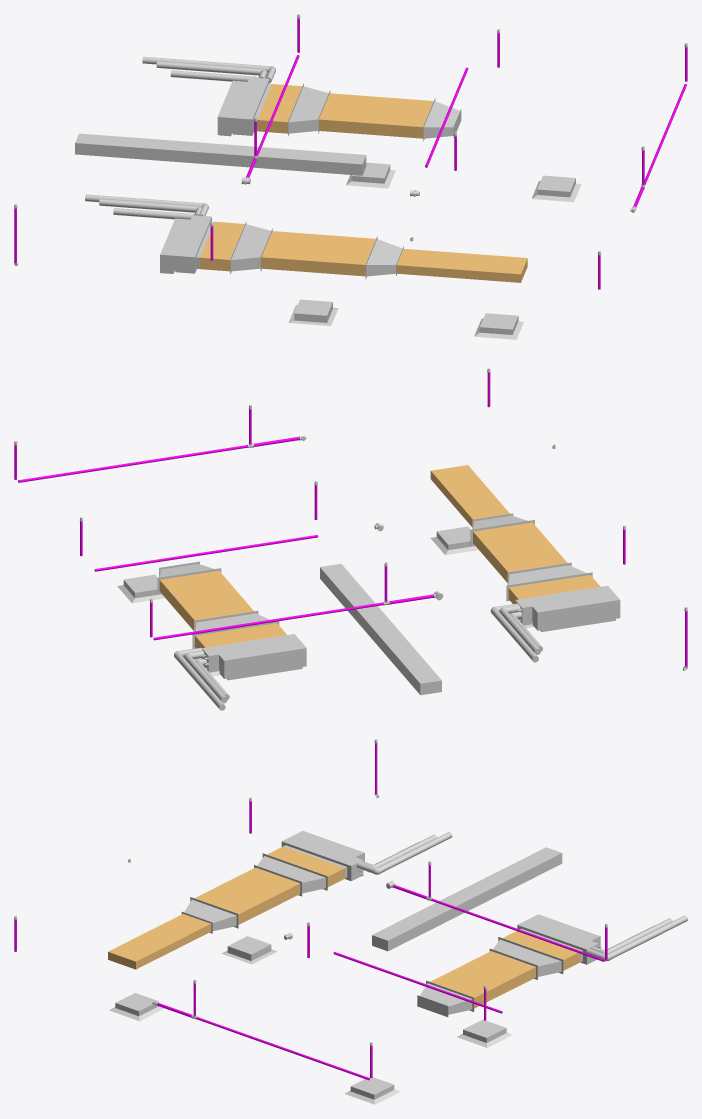
The picture shows the model from 3 angles, top to bottom: view 1: azimuth 30°, elevation 25°; view 2: azimuth 150°, elevation 25°; view 3: azimuth 270°, elevation 25°; orthographic projection. The views are drawn at different scales.
Visible parts, largest first — view 1: 风管隔热层:纤维玻璃:3140463[1GeACjUHjBGAb1Ze1absFD], 矩形风管:AC-矩形-送风:3141295[1GeACjUHjBGAb1Ze1absOD], 矩形风管:AC-矩形-送风:3141283[1GeACjUHjBGAb1Ze1absO1], 矩形风管:AC-矩形-送风:3141285[1GeACjUHjBGAb1Ze1absO7], 变频式多联式空调室内机1:FP-08 2:3141281[1GeACjUHjBGAb1Ze1absO3], 变频式多联式空调室内机1:FP-08 2:3141293[1GeACjUHjBGAb1Ze1absOF], 矩形风管:AC-矩形-送风:3141282[1GeACjUHjBGAb1Ze1absO0], 矩形风管:AC-矩形-送风:3141294[1GeACjUHjBGAb1Ze1absOC], AC_矩形变径管 - 角度 - 法兰:45 度:3141284[1GeACjUHjBGAb1Ze1absO6], AC_矩形变径管 - 角度 - 法兰:45 度:3141296[1GeACjUHjBGAb1Ze1absOI], AC_矩形变径管 - 角度 - 法兰:45 度:3141299[1GeACjUHjBGAb1Ze1absOH], AC_矩形变径管 - 角度 - 法兰:45 度:3141287[1GeACjUHjBGAb1Ze1absO5] (+10 smaller); view 2: 风管隔热层:纤维玻璃:3140463[1GeACjUHjBGAb1Ze1absFD], 变频式多联式空调室内机1:FP-08 2:3141293[1GeACjUHjBGAb1Ze1absOF], 变频式多联式空调室内机1:FP-08 2:3141281[1GeACjUHjBGAb1Ze1absO3], 矩形风管:AC-矩形-送风:3141295[1GeACjUHjBGAb1Ze1absOD], 矩形风管:AC-矩形-送风:3141283[1GeACjUHjBGAb1Ze1absO1], 矩形风管:AC-矩形-送风:3141285[1GeACjUHjBGAb1Ze1absO7], 矩形风管:AC-矩形-送风:3141282[1GeACjUHjBGAb1Ze1absO0], 矩形风管:AC-矩形-送风:3141294[1GeACjUHjBGAb1Ze1absOC], AC_矩形变径管 - 角度 - 法兰:45 度:3141284[1GeACjUHjBGAb1Ze1absO6], AC_矩形变径管 - 角度 - 法兰:45 度:3141296[1GeACjUHjBGAb1Ze1absOI], 散流器-方形1:750:3141286[1GeACjUHjBGAb1Ze1absO4], 散流器-方形1:750:3141298[1GeACjUHjBGAb1Ze1absOG] (+6 smaller); view 3: 风管隔热层:纤维玻璃:3140463[1GeACjUHjBGAb1Ze1absFD], 矩形风管:AC-矩形-送风:3141283[1GeACjUHjBGAb1Ze1absO1], 矩形风管:AC-矩形-送风:3141295[1GeACjUHjBGAb1Ze1absOD], 矩形风管:AC-矩形-送风:3141285[1GeACjUHjBGAb1Ze1absO7], 变频式多联式空调室内机1:FP-08 2:3141281[1GeACjUHjBGAb1Ze1absO3], 变频式多联式空调室内机1:FP-08 2:3141293[1GeACjUHjBGAb1Ze1absOF], AC_矩形变径管 - 角度 - 法兰:45 度:3141284[1GeACjUHjBGAb1Ze1absO6], AC_矩形变径管 - 角度 - 法兰:45 度:3141296[1GeACjUHjBGAb1Ze1absOI], AC_矩形变径管 - 角度 - 法兰:45 度:3141299[1GeACjUHjBGAb1Ze1absOH], 矩形风管:AC-矩形-送风:3141282[1GeACjUHjBGAb1Ze1absO0], AC_矩形变径管 - 角度 - 法兰:45 度:3141287[1GeACjUHjBGAb1Ze1absO5], 矩形风管:AC-矩形-送风:3141294[1GeACjUHjBGAb1Ze1absOC] (+8 smaller).
Part boxes in pixels (box(x1,y1,x2,y2)): 风管隔热层:纤维玻璃:3140463[1GeACjUHjBGAb1Ze1absFD]: box(75, 133, 366, 175); 矩形风管:AC-矩形-送风:3141295[1GeACjUHjBGAb1Ze1absOD]: box(319, 93, 433, 138); 矩形风管:AC-矩形-送风:3141283[1GeACjUHjBGAb1Ze1absO1]: box(261, 231, 375, 276); 矩形风管:AC-矩形-送风:3141285[1GeACjUHjBGAb1Ze1absO7]: box(396, 249, 527, 282); 变频式多联式空调室内机1:FP-08 2:3141281[1GeACjUHjBGAb1Ze1absO3]: box(160, 215, 214, 273); 变频式多联式空调室内机1:FP-08 2:3141293[1GeACjUHjBGAb1Ze1absOF]: box(217, 77, 271, 136); 矩形风管:AC-矩形-送风:3141282[1GeACjUHjBGAb1Ze1absO0]: box(200, 221, 244, 271); 矩形风管:AC-矩形-送风:3141294[1GeACjUHjBGAb1Ze1absOC]: box(257, 84, 302, 133); AC_矩形变径管 - 角度 - 法兰:45 度:3141284[1GeACjUHjBGAb1Ze1absO6]: box(230, 221, 272, 274); AC_矩形变径管 - 角度 - 法兰:45 度:3141296[1GeACjUHjBGAb1Ze1absOI]: box(288, 83, 330, 136); AC_矩形变径管 - 角度 - 法兰:45 度:3141299[1GeACjUHjBGAb1Ze1absOH]: box(423, 98, 461, 141); AC_矩形变径管 - 角度 - 法兰:45 度:3141287[1GeACjUHjBGAb1Ze1absO5]: box(365, 236, 403, 279); 风管隔热层:纤维玻璃:3140463[1GeACjUHjBGAb1Ze1absFD]: box(320, 563, 441, 695); 变频式多联式空调室内机1:FP-08 2:3141293[1GeACjUHjBGAb1Ze1absOF]: box(202, 634, 306, 680); 变频式多联式空调室内机1:FP-08 2:3141281[1GeACjUHjBGAb1Ze1absO3]: box(515, 585, 620, 631); 矩形风管:AC-矩形-送风:3141295[1GeACjUHjBGAb1Ze1absOD]: box(159, 570, 253, 630); 矩形风管:AC-矩形-送风:3141283[1GeACjUHjBGAb1Ze1absO1]: box(473, 522, 567, 582); 矩形风管:AC-矩形-送风:3141285[1GeACjUHjBGAb1Ze1absO7]: box(430, 465, 509, 526); 矩形风管:AC-矩形-送风:3141282[1GeACjUHjBGAb1Ze1absO0]: box(508, 575, 600, 603); 矩形风管:AC-矩形-送风:3141294[1GeACjUHjBGAb1Ze1absOC]: box(195, 623, 286, 648); AC_矩形变径管 - 角度 - 法兰:45 度:3141284[1GeACjUHjBGAb1Ze1absO6]: box(506, 562, 592, 601); AC_矩形变径管 - 角度 - 法兰:45 度:3141296[1GeACjUHjBGAb1Ze1absOI]: box(192, 611, 279, 648); 散流器-方形1:750:3141286[1GeACjUHjBGAb1Ze1absO4]: box(430, 526, 478, 555); 散流器-方形1:750:3141298[1GeACjUHjBGAb1Ze1absOG]: box(117, 574, 165, 603); 风管隔热层:纤维玻璃:3140463[1GeACjUHjBGAb1Ze1absFD]: box(372, 847, 562, 951); 矩形风管:AC-矩形-送风:3141283[1GeACjUHjBGAb1Ze1absO1]: box(195, 867, 300, 924); 矩形风管:AC-矩形-送风:3141295[1GeACjUHjBGAb1Ze1absOD]: box(430, 951, 535, 1008); 矩形风管:AC-矩形-送风:3141285[1GeACjUHjBGAb1Ze1absO7]: box(108, 914, 211, 969); 变频式多联式空调室内机1:FP-08 2:3141281[1GeACjUHjBGAb1Ze1absO3]: box(281, 831, 364, 881); 变频式多联式空调室内机1:FP-08 2:3141293[1GeACjUHjBGAb1Ze1absOF]: box(517, 914, 601, 964); AC_矩形变径管 - 角度 - 法兰:45 度:3141284[1GeACjUHjBGAb1Ze1absO6]: box(254, 853, 327, 896); AC_矩形变径管 - 角度 - 法兰:45 度:3141296[1GeACjUHjBGAb1Ze1absOI]: box(489, 937, 563, 979); AC_矩形变径管 - 角度 - 法兰:45 度:3141299[1GeACjUHjBGAb1Ze1absOH]: box(417, 980, 474, 1016); 矩形风管:AC-矩形-送风:3141282[1GeACjUHjBGAb1Ze1absO0]: box(267, 846, 344, 886); AC_矩形变径管 - 角度 - 法兰:45 度:3141287[1GeACjUHjBGAb1Ze1absO5]: box(181, 897, 238, 933); 矩形风管:AC-矩形-送风:3141294[1GeACjUHjBGAb1Ze1absOC]: box(503, 931, 580, 970).
Bounding box in the file's own units: 9.85 × 1.64 × 9.22.
